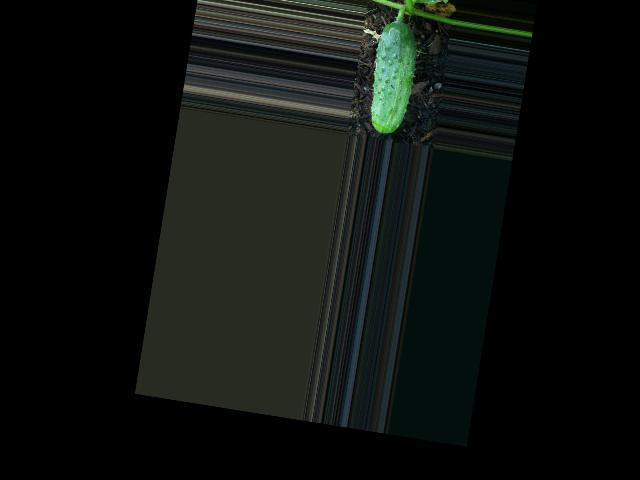cucumber: (363, 19, 422, 137)
